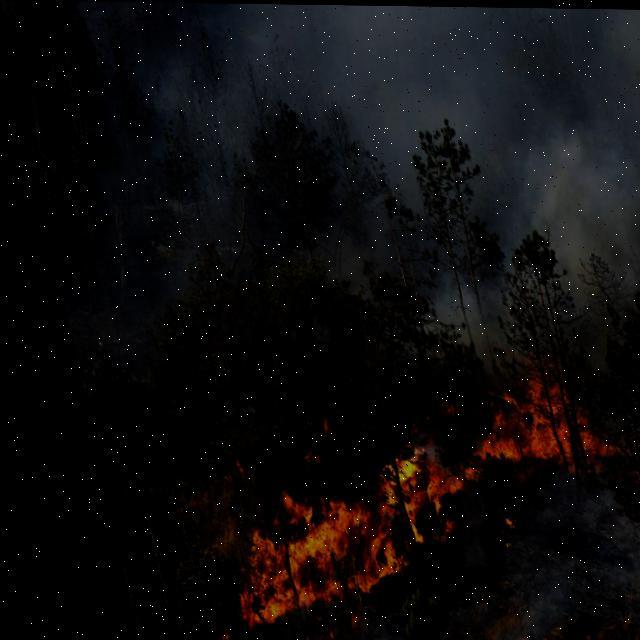Fire: (154, 346, 606, 636), (637, 362, 639, 511)
